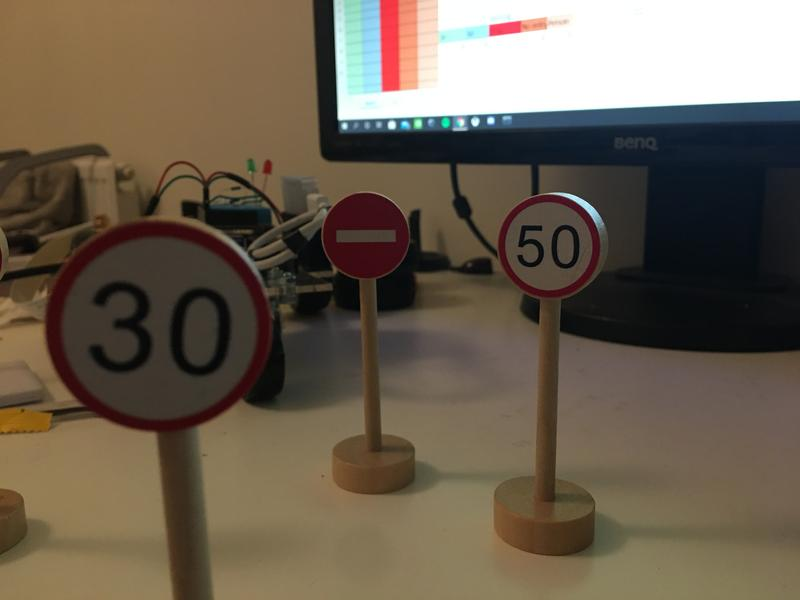Traffic_Sign_30: (48, 221, 272, 425)
Traffic_Sign_50: (500, 195, 603, 302)
Traffic_Sign_No_Entry: (321, 192, 407, 279)
